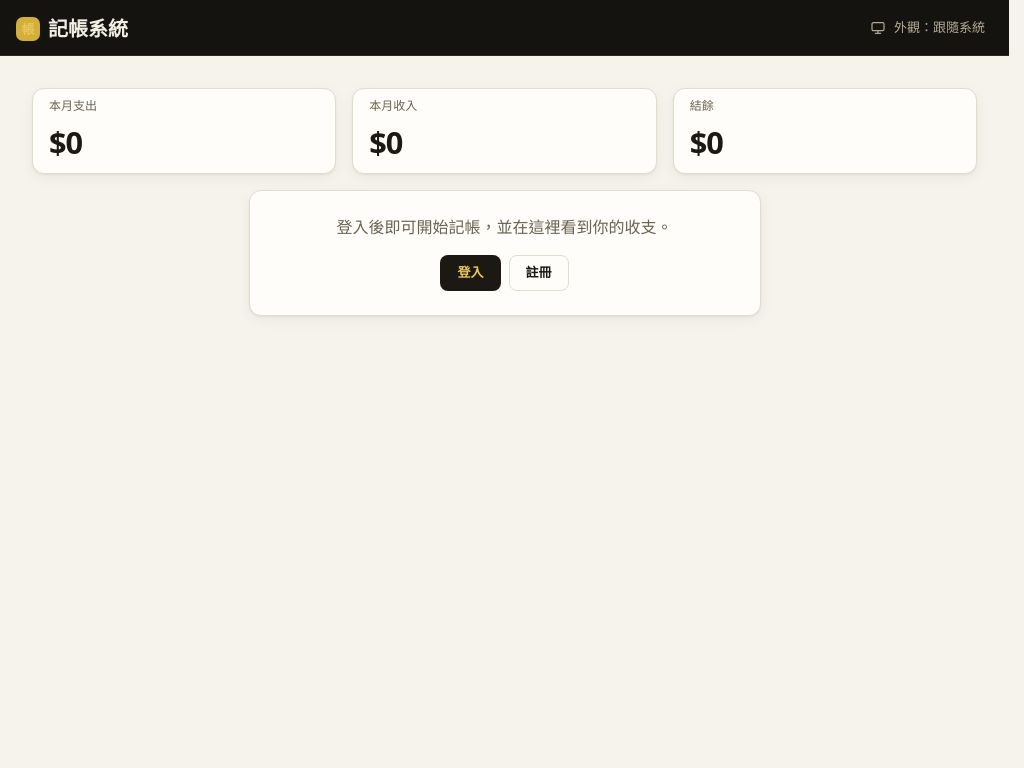
Scenario: Home dashboard › keeps the guest home and avoids authenticated data requests
Expected: the text "$0" is shown 3 times, x1=49 y1=121 x2=82 y2=163; x1=369 y1=121 x2=402 y2=163; x1=690 y1=121 x2=723 y2=163
Expected: the text "登入後即可開始記帳，並在這裡看到你的收支。" is shown, x1=336 y1=216 x2=672 y2=238
Click the button "註冊" at (538, 273), box x1=508 y1=255 x2=568 y2=291
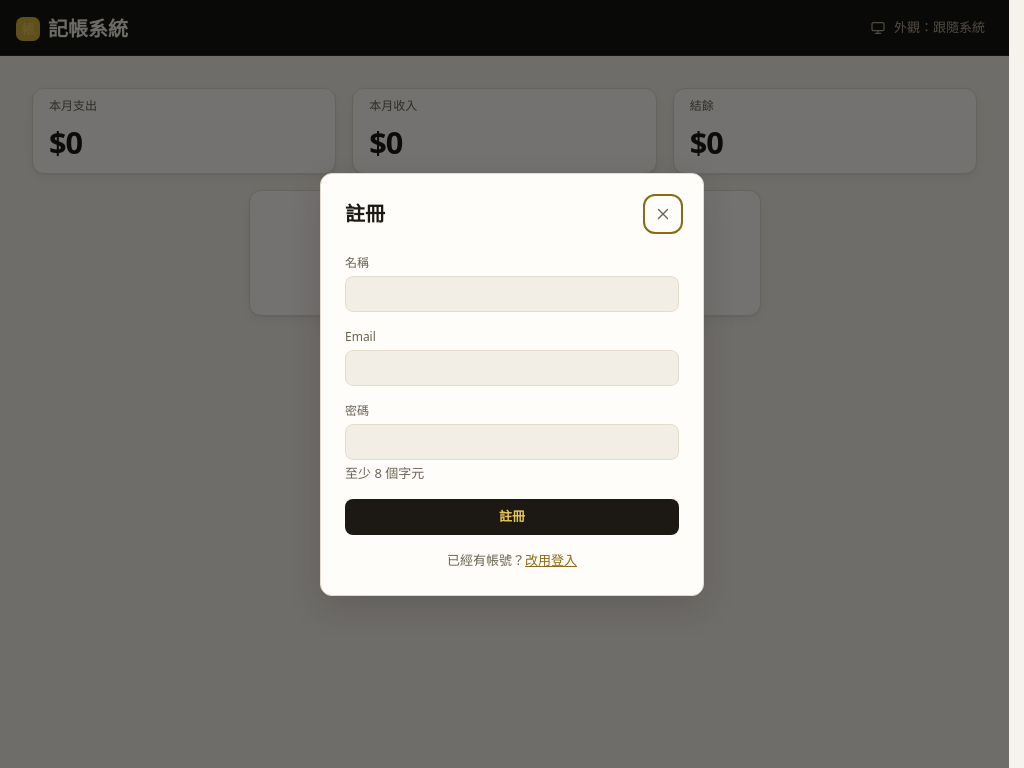
Expected: the dialog "註冊" is shown, x1=320 y1=172 x2=704 y2=596
